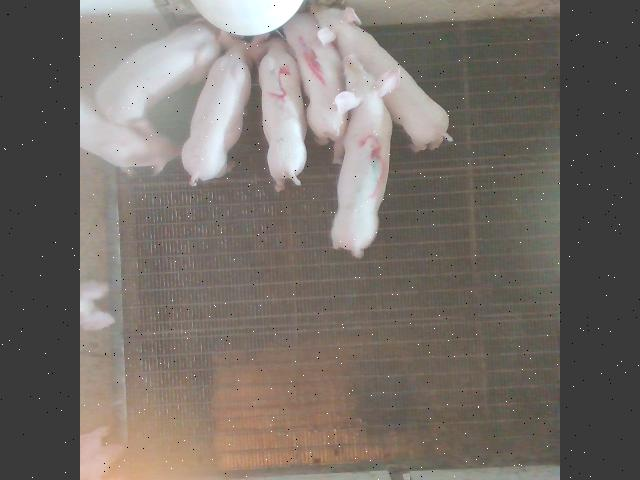pig-1: (283, 12, 348, 162)
pig-3: (331, 54, 399, 256)
pig-5: (259, 38, 306, 190)
